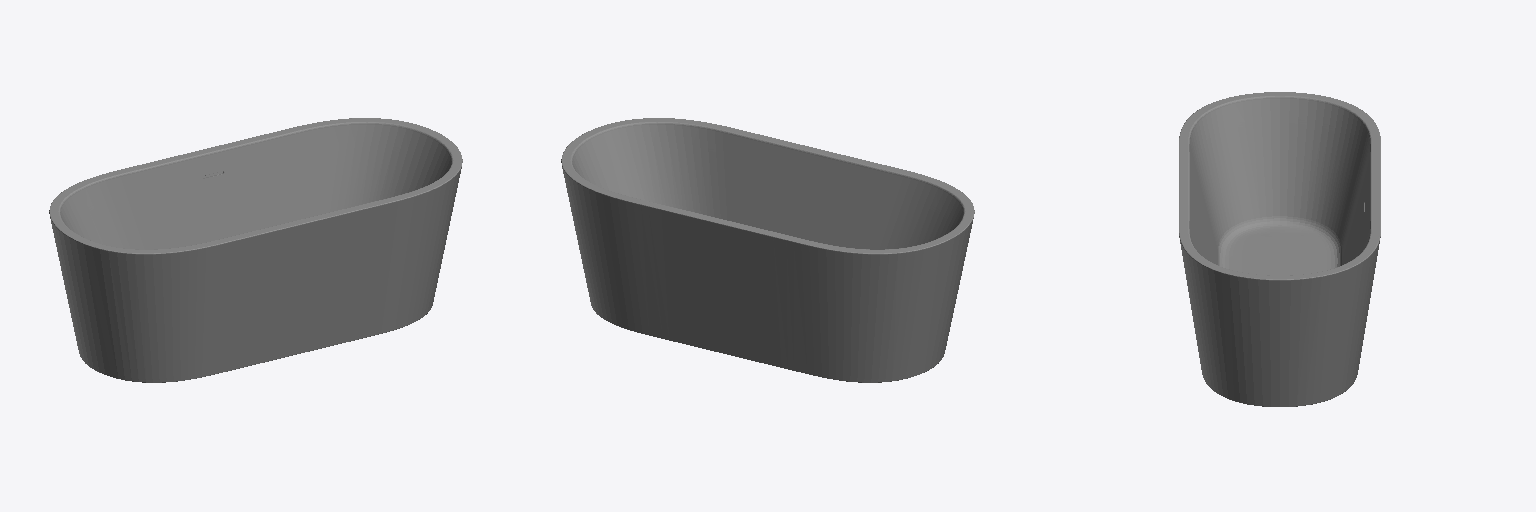
File: re2_bath.obj
The picture shows the model from 3 angles: view 1: azimuth 30°, elevation 25°; view 2: azimuth 150°, elevation 25°; view 3: azimuth 270°, elevation 25°; orthographic projection.
Visible parts, largest first — view 1: re2_bath_001; view 2: re2_bath_001; view 3: re2_bath_001.
Boxes of the visible parts, x1=… form: re2_bath_001: x1=49, y1=118, x2=462, y2=382; re2_bath_001: x1=561, y1=118, x2=974, y2=382; re2_bath_001: x1=1179, y1=92, x2=1380, y2=406.
Bounding box in the file's own units: 1621 × 565 × 738.